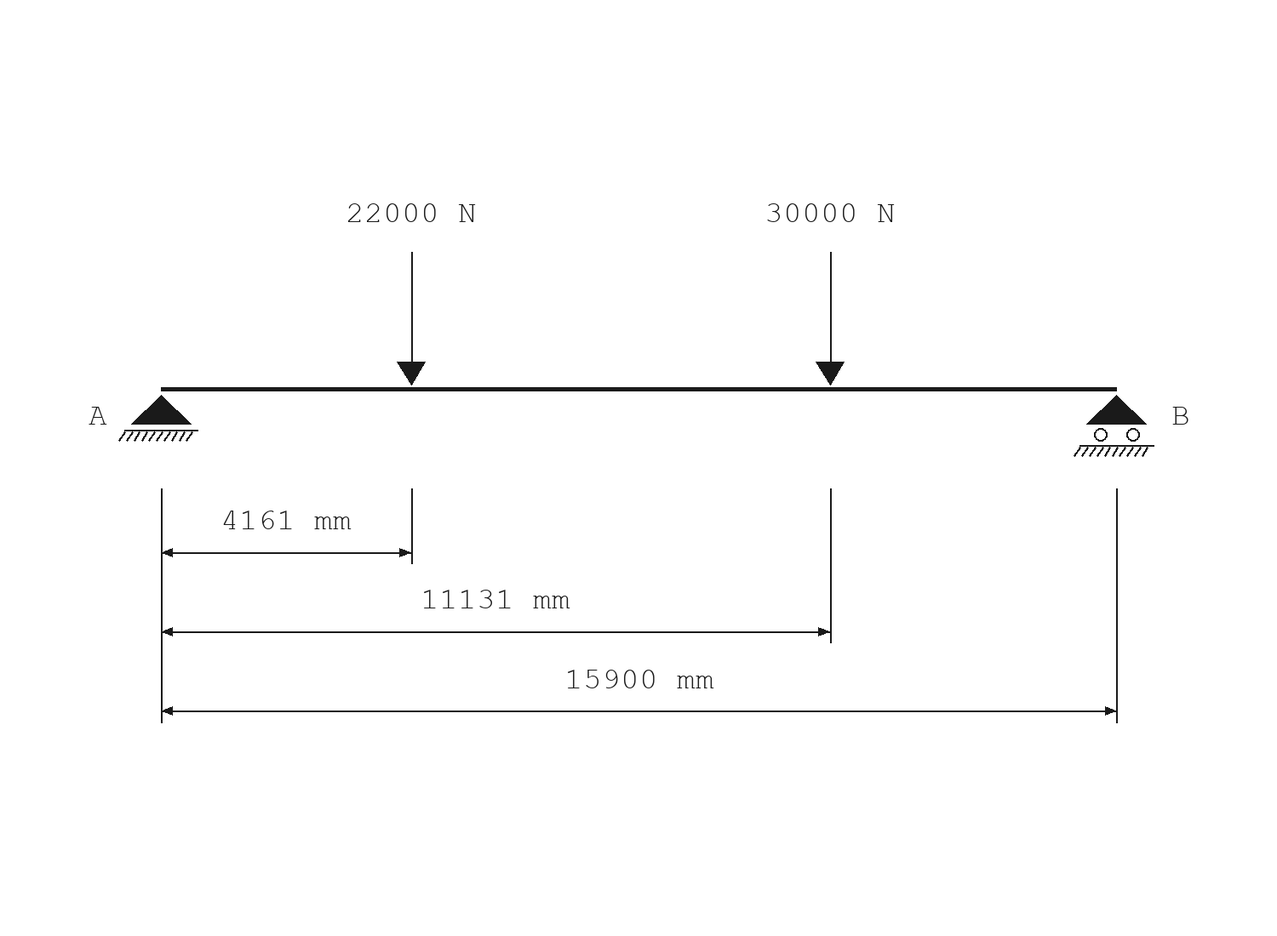pin_support: (118, 395, 198, 442)
point_load: (397, 252, 426, 385), (816, 252, 845, 385)
roller_support: (1074, 395, 1154, 457)
